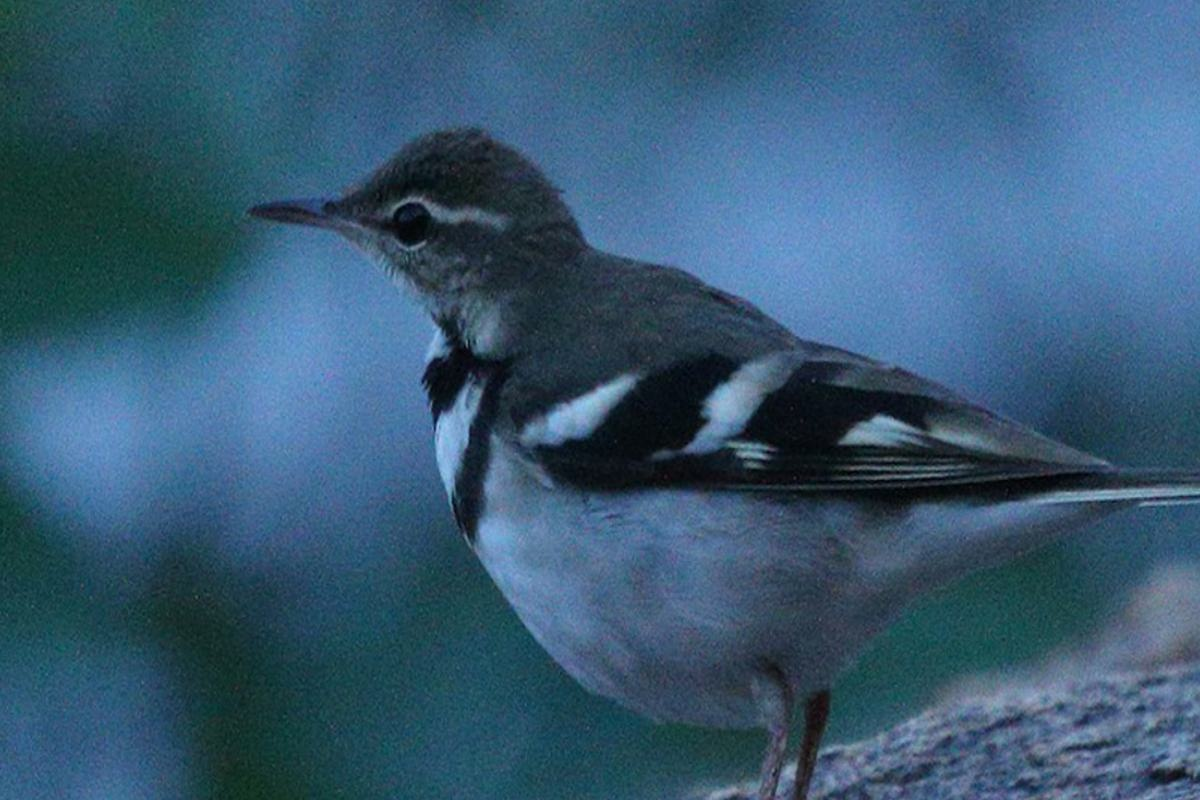wagtail: (229, 130, 1084, 731)
